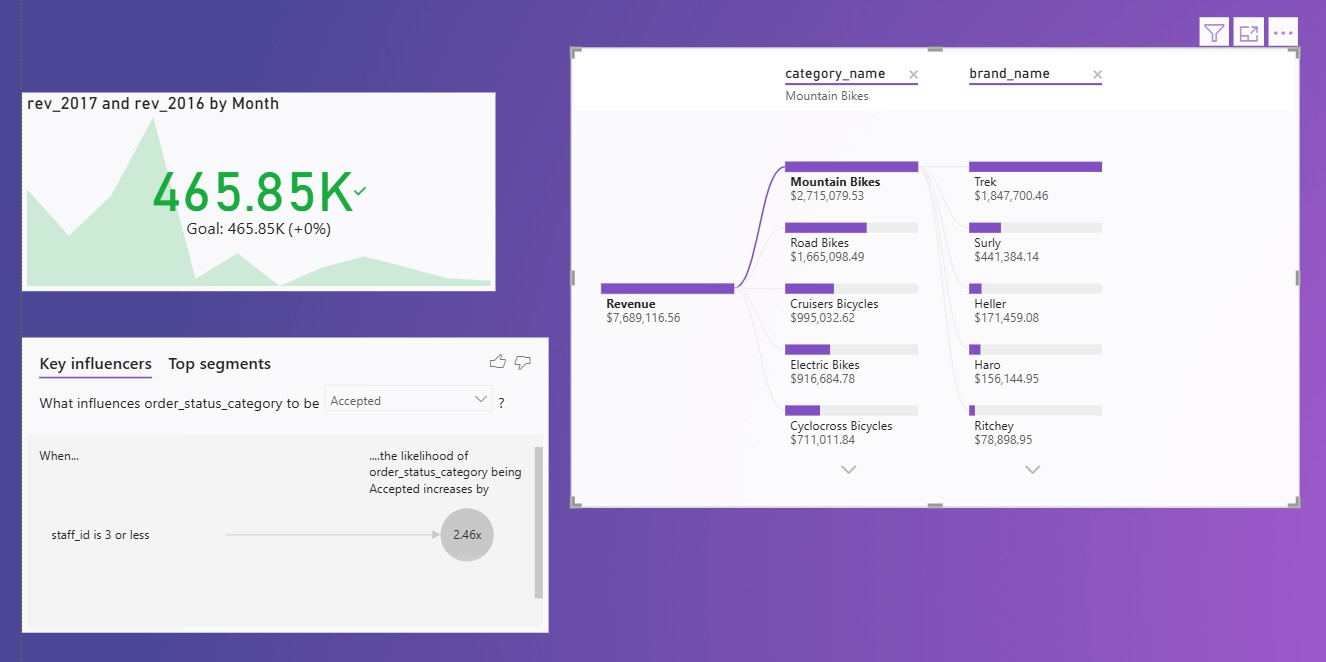

What the dashboard file says about the page in this screenshot:
{"tool":"powerbi","page":{"name":"Page 4","canvas":[1280,720],"ordinal":3},"visuals":[{"type":"kpi","fields":{"Goal":["Table.rev_2016"],"Indicator":["Table.rev_2017"],"TrendLine":["Orders.Month"]},"box":[0,119.8,463.5,194.4],"z":0},{"type":"decompositionTreeVisual","fields":{"Analyze":["Table.Revenue"],"ExplainBy":["Categories.category_name","Brands.brand_name"]},"box":[536.8,75.8,712.9,450],"z":1000},{"type":"keyDriversVisual","fields":{"Target":["Orders.order_status_category"],"ExplainBy":["Orders.staff_id"]},"box":[0,359.5,514.8,288.6],"z":2000}]}

Visuals, with their boxes on the page's 1280x720 design canvas (x1, y1, x2, y2). These are canvas units, not pixel positions in the 1326x662 screenshot, which may show the page scaled, cropped or inside an application window:
kpi - Table.rev_2016 x Table.rev_2017: 0 120 464 314
decompositionTreeVisual - Table.Revenue x Categories.category_name: 537 76 1250 526
keyDriversVisual - Orders.order_status_category x Orders.staff_id: 0 360 515 648
